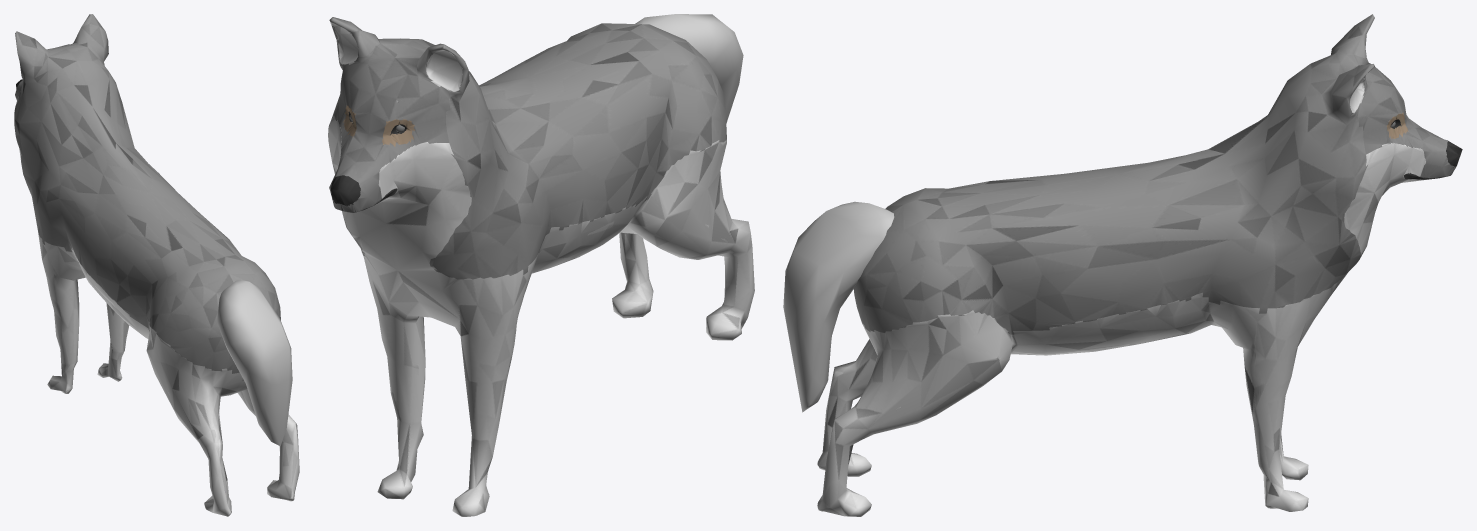
The picture shows the model from 3 angles, left to right: view 1: azimuth 30°, elevation 25°; view 2: azimuth 150°, elevation 25°; view 3: azimuth 270°, elevation 25°; orthographic projection. The views are drawn at different scales.
Parts seen in each view (by area): view 1: lobo3_2, PM3D_Sphere3D1_1; view 2: lobo3_2, PM3D_Sphere3D1_1; view 3: lobo3_2, PM3D_Sphere3D1_1.
Part boxes in pixels (x1,y1,x2,y2): lobo3_2: (14, 14, 299, 516); PM3D_Sphere3D1_1: (217, 280, 292, 446); lobo3_2: (328, 17, 754, 516); PM3D_Sphere3D1_1: (635, 14, 743, 123); lobo3_2: (817, 14, 1462, 516); PM3D_Sphere3D1_1: (783, 201, 894, 412).
Bounding box in the file's own units: 3.78 × 10.21 × 13.88.
